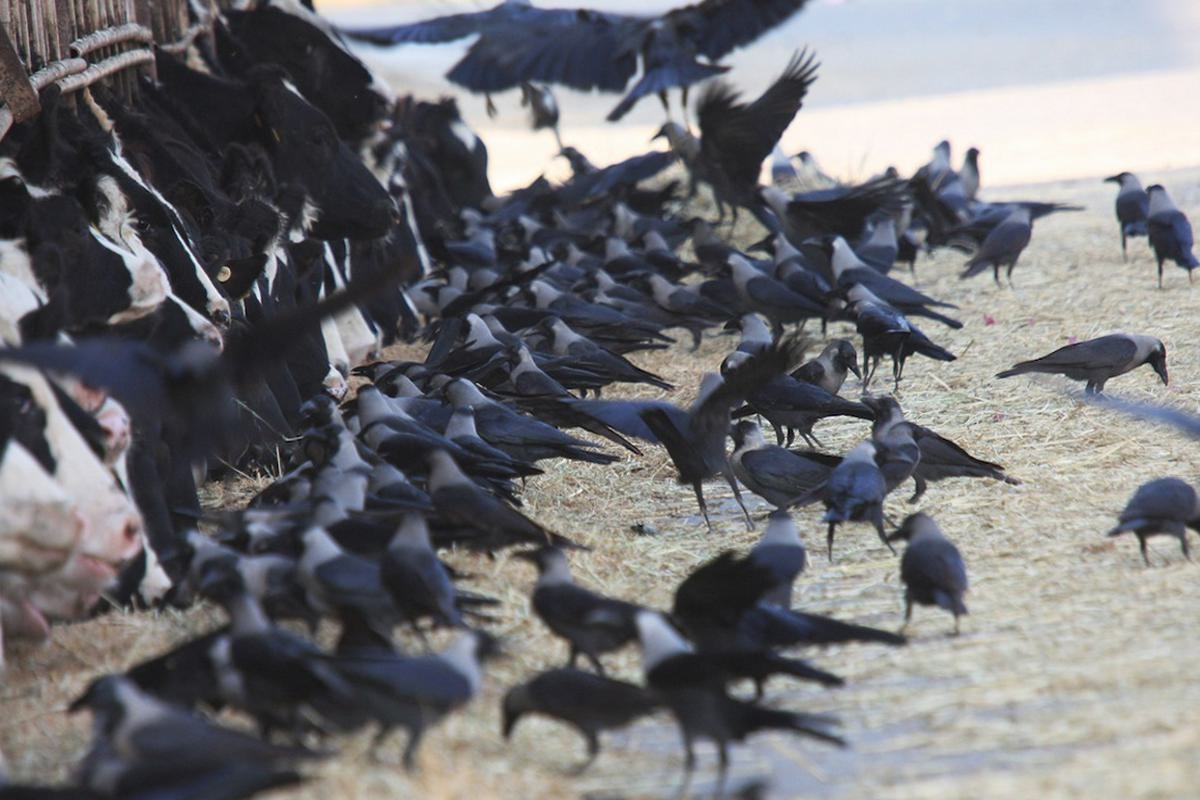crow: (999, 328, 1177, 406), (875, 512, 983, 630), (505, 662, 642, 751), (510, 551, 638, 646), (445, 386, 590, 458), (723, 424, 837, 501), (824, 445, 904, 549), (840, 286, 939, 366), (716, 249, 809, 323), (972, 203, 1049, 284), (1145, 182, 1199, 288), (755, 504, 819, 593), (455, 414, 525, 473), (819, 230, 887, 290), (753, 236, 826, 283), (1101, 168, 1145, 242)
